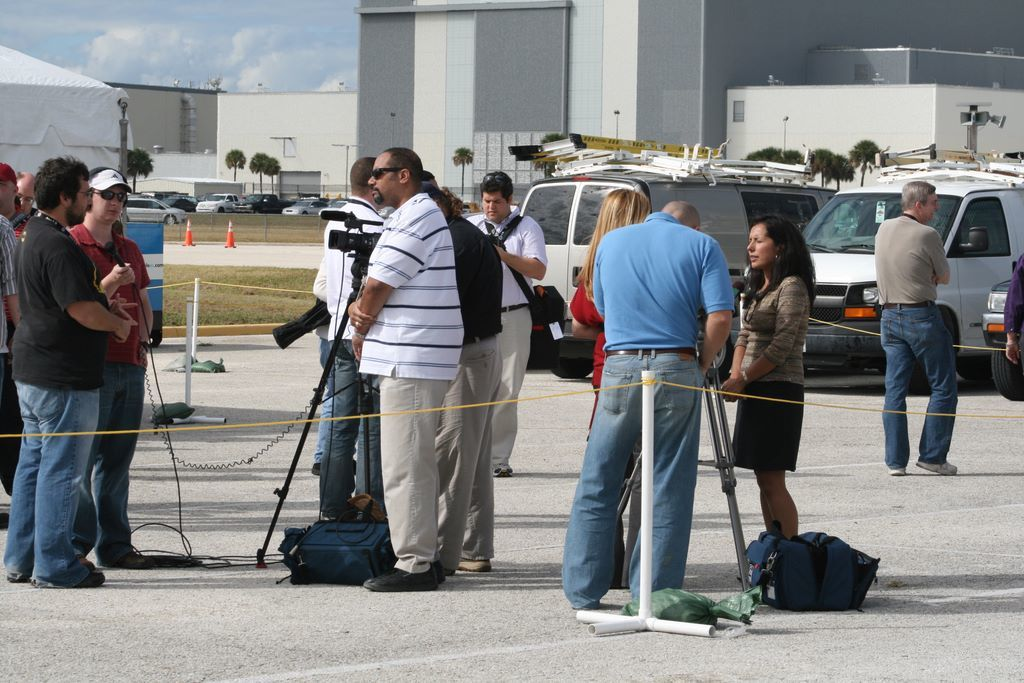Car: (737, 177, 1022, 383), (117, 181, 179, 218), (193, 196, 259, 217), (286, 194, 316, 214)
